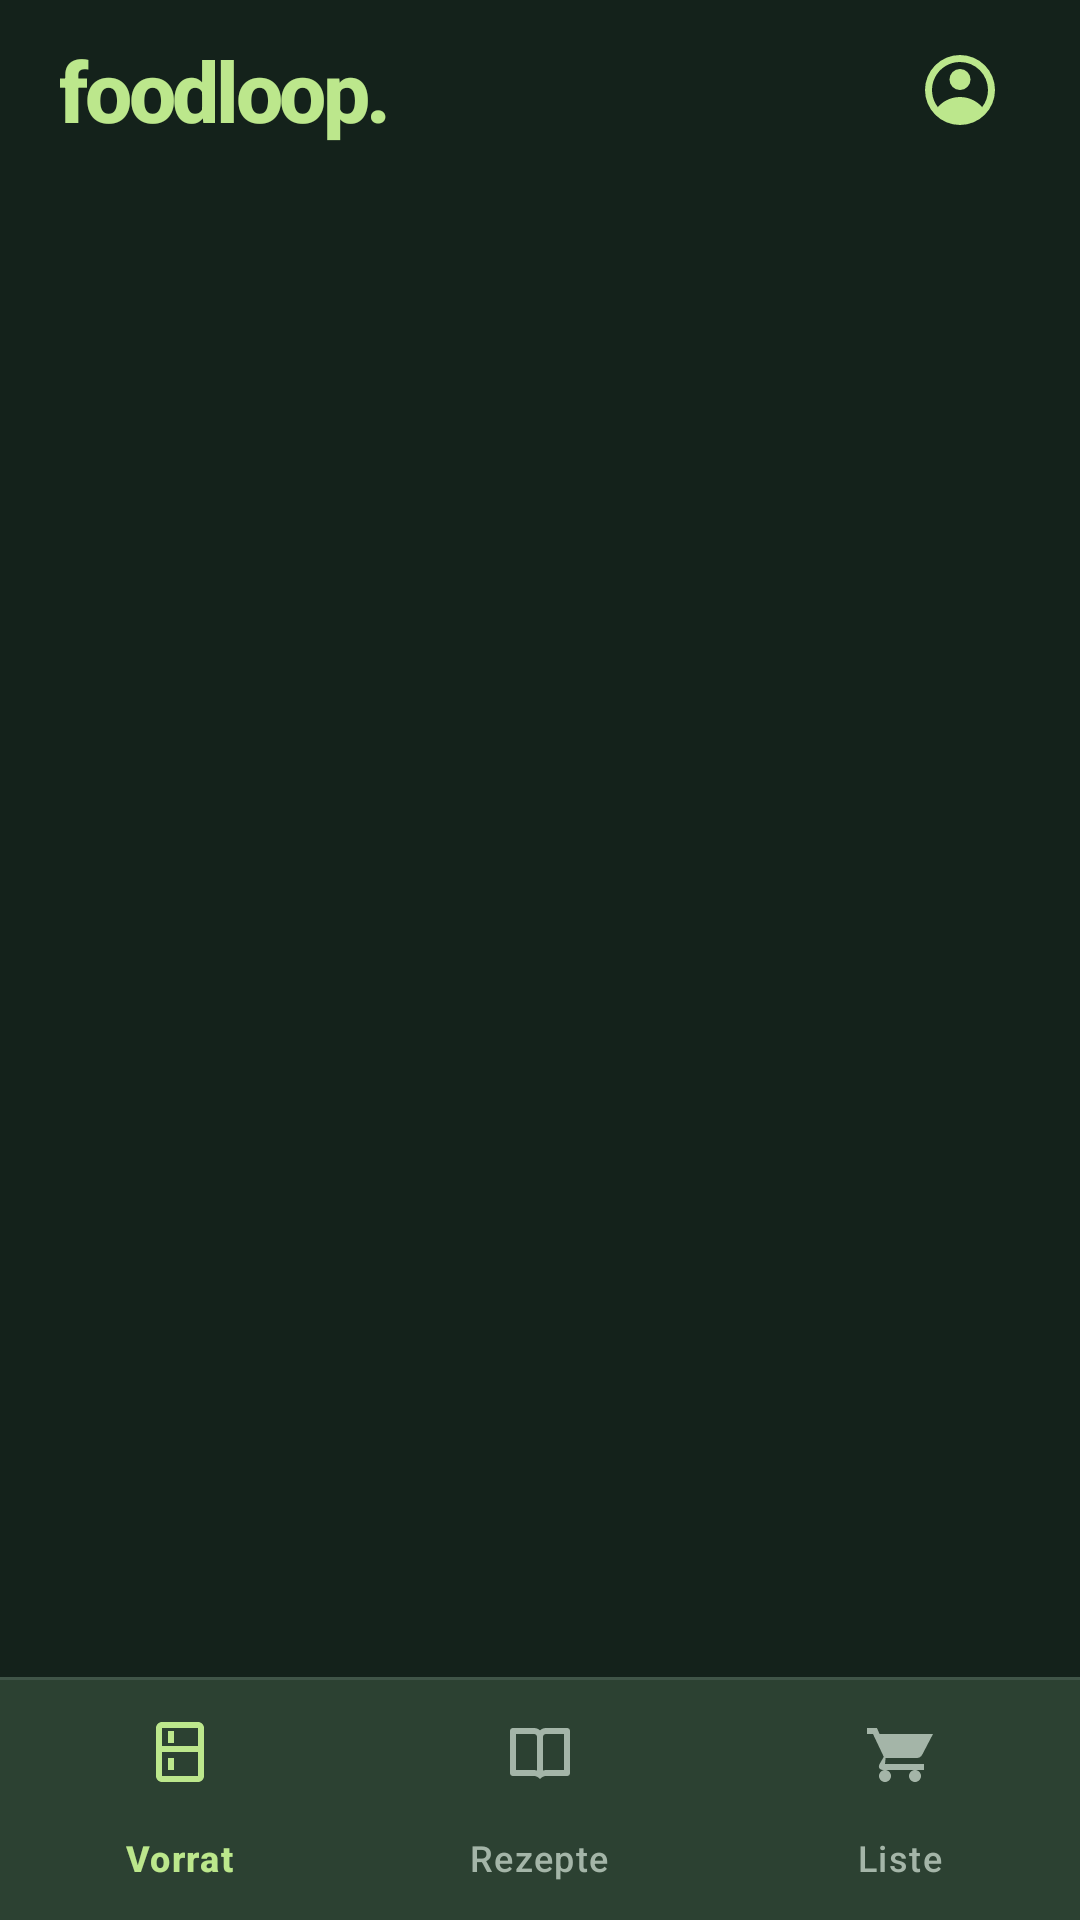

Icons on this 1080×1920 Android screen, each with the point to tap as (x=x, y=y):
Mein Profil: (x=960, y=90)
